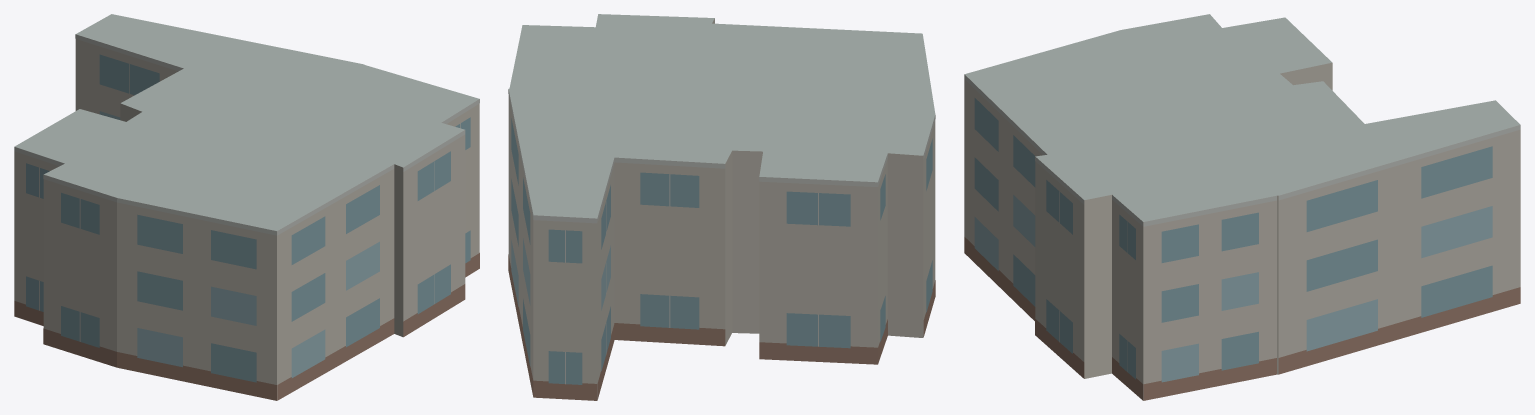
The model's file is survey-upis-33001739.glb.
3 views of the same model, side by side, from view 1: azimuth 30°, elevation 25°; view 2: azimuth 150°, elevation 25°; view 3: azimuth 270°, elevation 25° (orthographic). The views are drawn at different scales.
Visible parts, largest first — view 1: survey-upis-33001739.tmp; view 2: survey-upis-33001739.tmp; view 3: survey-upis-33001739.tmp.
Part boxes in pixels (x1,y1,x2,y2): survey-upis-33001739.tmp: [14, 14, 479, 400]; survey-upis-33001739.tmp: [508, 14, 935, 400]; survey-upis-33001739.tmp: [964, 14, 1520, 400].
Size of the model in its own units: 22.84 by 9.15 by 25.8.
